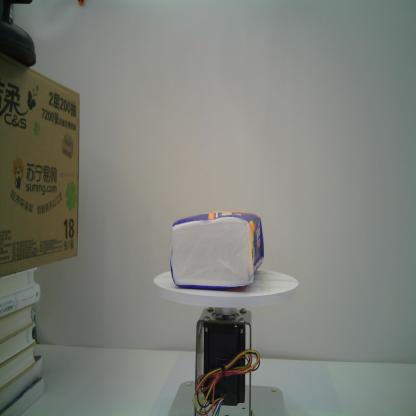Tissue: (168, 208, 264, 290)
